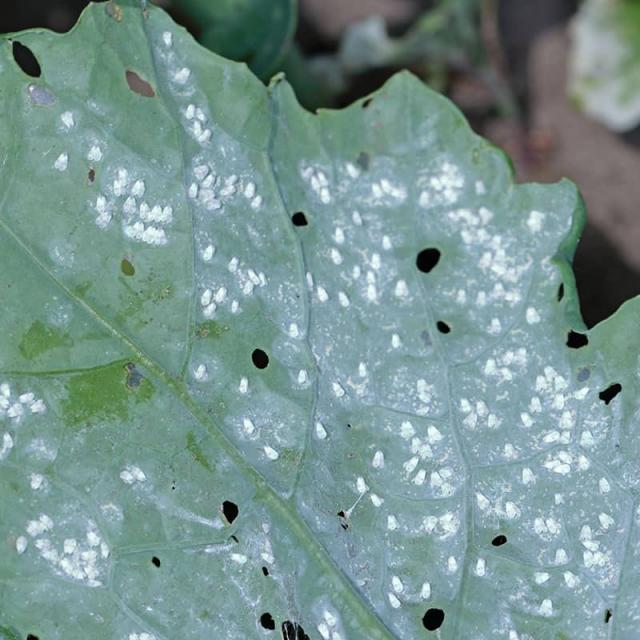Whitefly: (152, 3, 640, 640), (0, 349, 392, 640), (16, 75, 190, 291)
